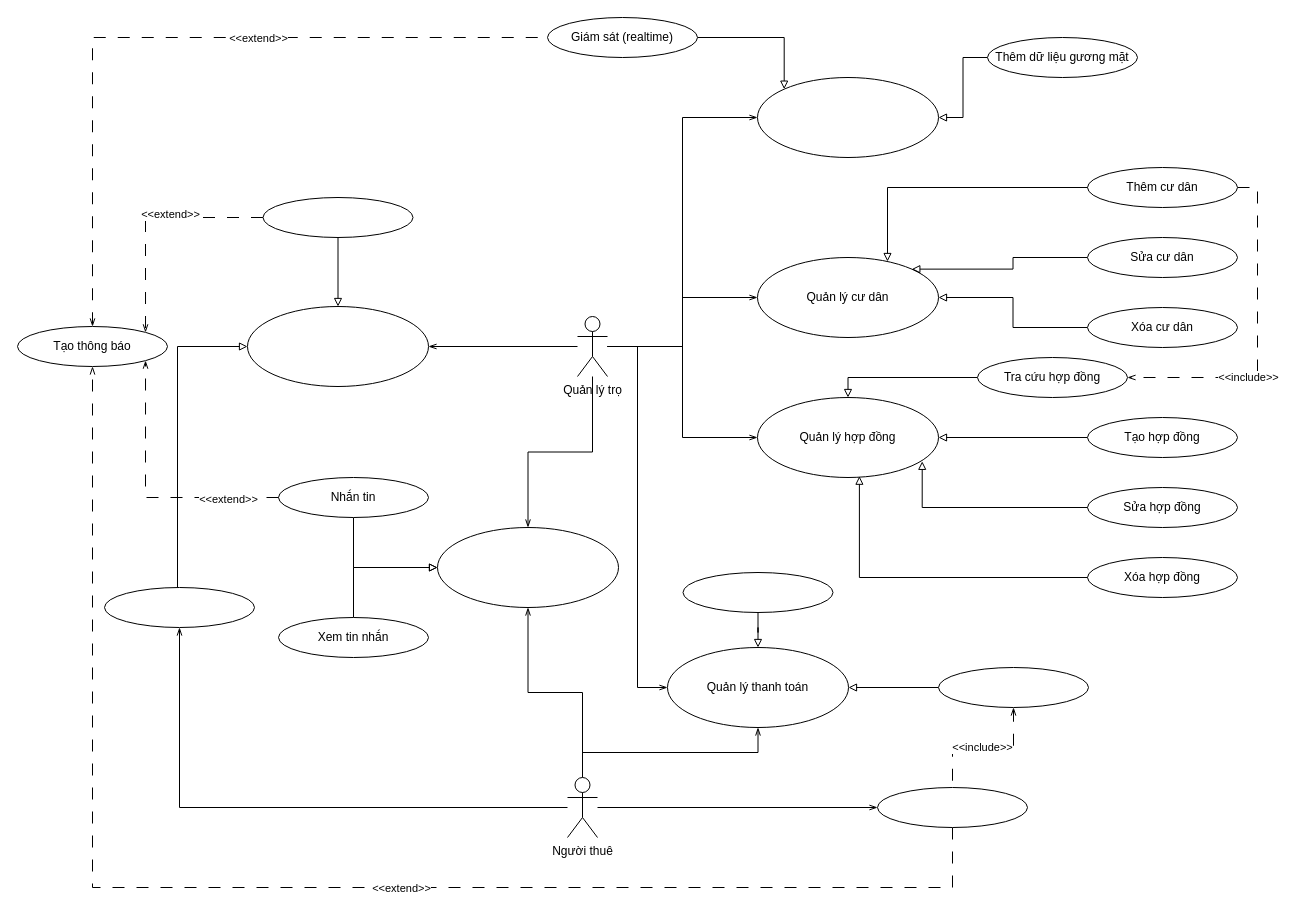
Some shapes in this 1296 by 913 pixel diagram are drawn without their labels. Each missing label, with the box of its shape:
Quản lý an ninh: (756, 76, 938, 158)
Quản lý thông báo: (246, 306, 428, 386)
Quản lý tin nhắn: (436, 526, 618, 608)
Thanh toán: (876, 786, 1028, 828)
Tra cứu giao dịch: (682, 572, 833, 612)
Tra cứu hóa đơn: (938, 666, 1088, 708)
Xem thông báo: (104, 586, 254, 628)
Đăng tin: (262, 196, 413, 238)
